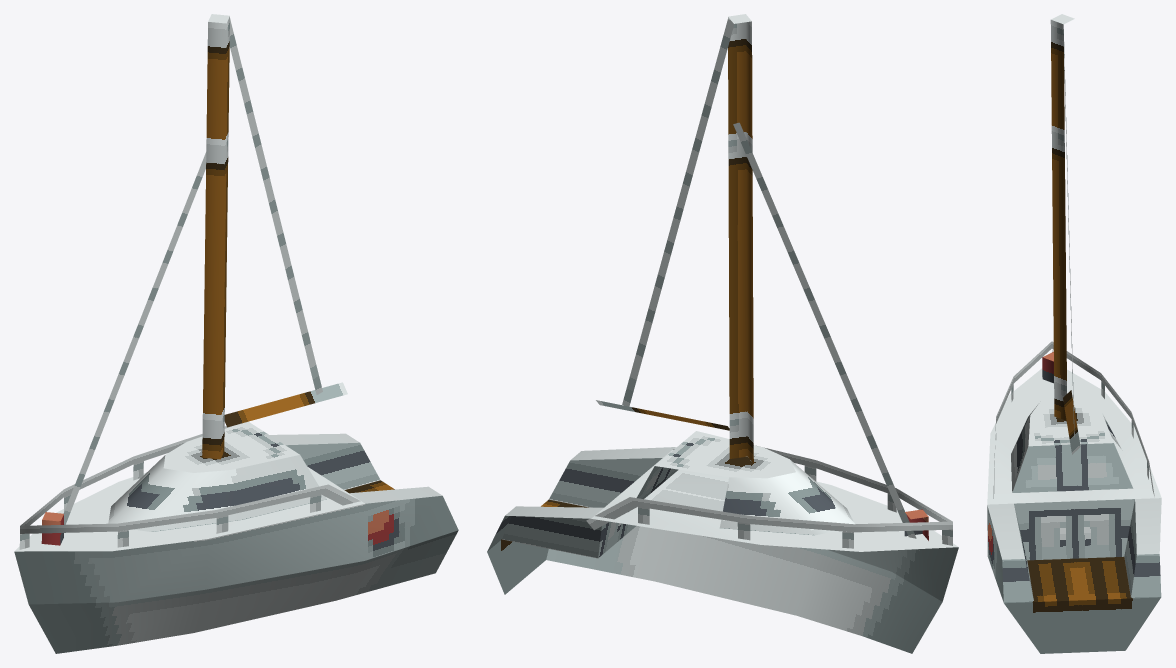
The model's file is yacht.glb.
3 views of the same model, side by side, from view 1: azimuth 30°, elevation 25°; view 2: azimuth 150°, elevation 25°; view 3: azimuth 270°, elevation 25° (orthographic). The views are drawn at different scales.
Visible parts, largest first — view 1: Docked Sailboat; view 2: Docked Sailboat; view 3: Docked Sailboat.
Part boxes in pixels (box(x1,y1,x2,y2)): Docked Sailboat: box(14, 14, 458, 653); Docked Sailboat: box(487, 14, 958, 653); Docked Sailboat: box(987, 14, 1161, 653).
Size of the model in its own units: 72.63 by 98.79 by 28.73.
2 materials, 2 textured.
